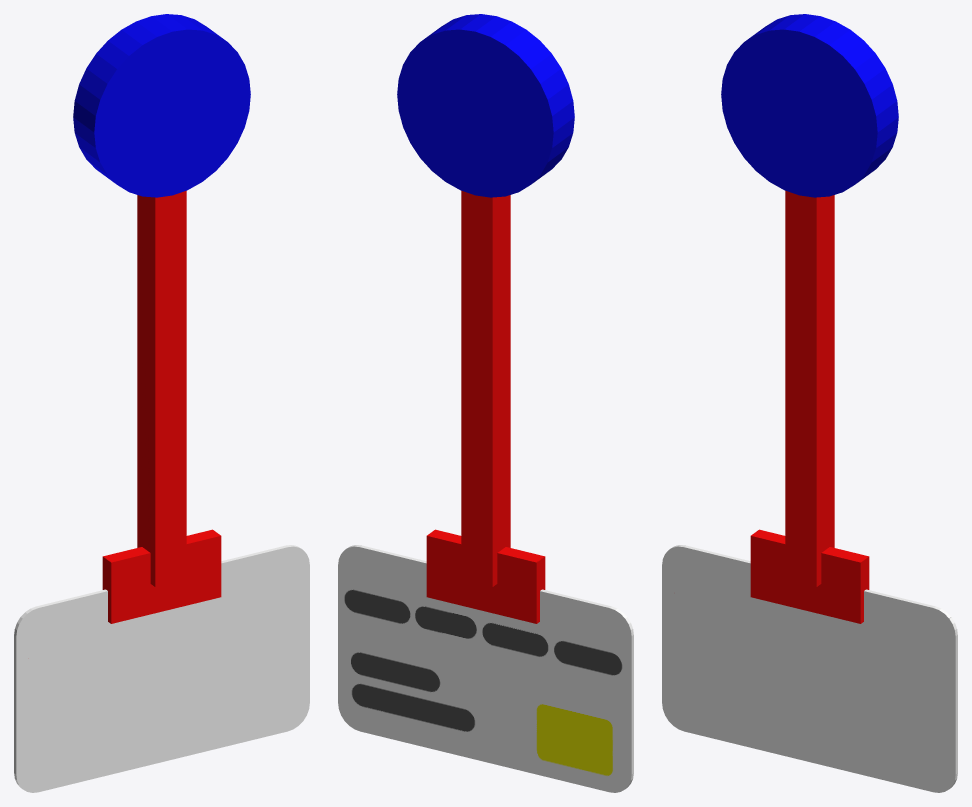
The model's file is giyotintexture.fbx.
3 renders of one model, left to right at view 1: azimuth 30°, elevation 25°; view 2: azimuth 150°, elevation 25°; view 3: azimuth 330°, elevation 25°, orthographic.
Visible parts, largest first — view 1: giyotin, giyotin.001, giyotin.002, giyotin.003; view 2: giyotin, giyotin.001, giyotin.002, giyotin.003; view 3: giyotin, giyotin.001, giyotin.002, giyotin.003.
Boxes of the visible parts, box(x1,y1,x2,y2) form: giyotin: box(14, 545, 309, 792); giyotin.001: box(73, 14, 250, 197); giyotin.002: box(137, 190, 186, 586); giyotin.003: box(102, 529, 221, 623); giyotin: box(338, 545, 633, 792); giyotin.001: box(397, 14, 574, 197); giyotin.002: box(461, 190, 510, 586); giyotin.003: box(426, 529, 545, 623); giyotin: box(662, 545, 957, 792); giyotin.001: box(721, 14, 898, 197); giyotin.002: box(785, 190, 834, 586); giyotin.003: box(750, 529, 869, 623).
Bounding box in the file's own units: 213 × 511 × 26.61.
